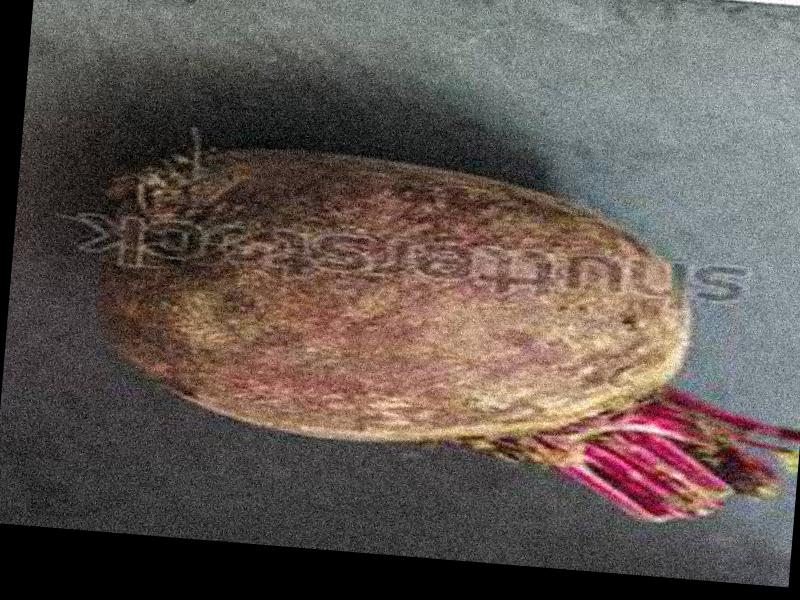Beet: (79, 135, 800, 529)
